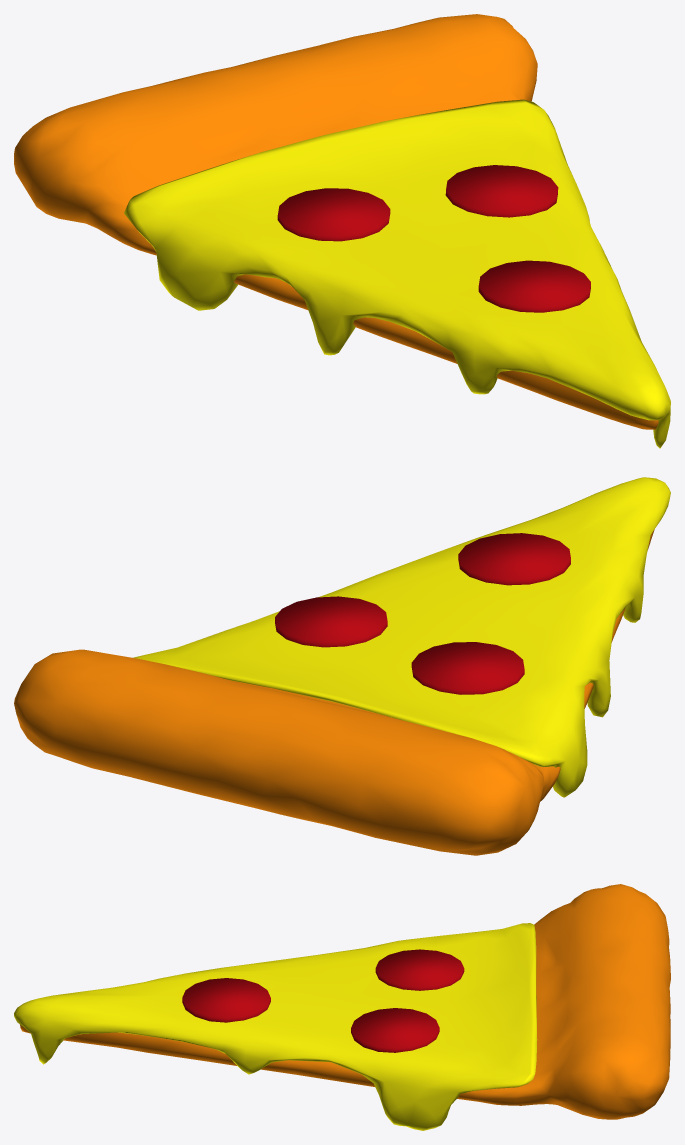
The model's file is Pizza.fbx.
The picture shows the model from 3 angles, top to bottom: view 1: azimuth 30°, elevation 25°; view 2: azimuth 150°, elevation 25°; view 3: azimuth 270°, elevation 25°; orthographic projection. The views are drawn at different scales.
Visible parts, largest first — view 1: Pizza; view 2: Pizza; view 3: Pizza.
Part boxes in pixels (x1,y1,x2,y2): Pizza: (14,14,670,448); Pizza: (14,477,670,855); Pizza: (14,884,670,1130).
Bounding box in the file's own units: 1.52 × 2.22 × 0.3734.
